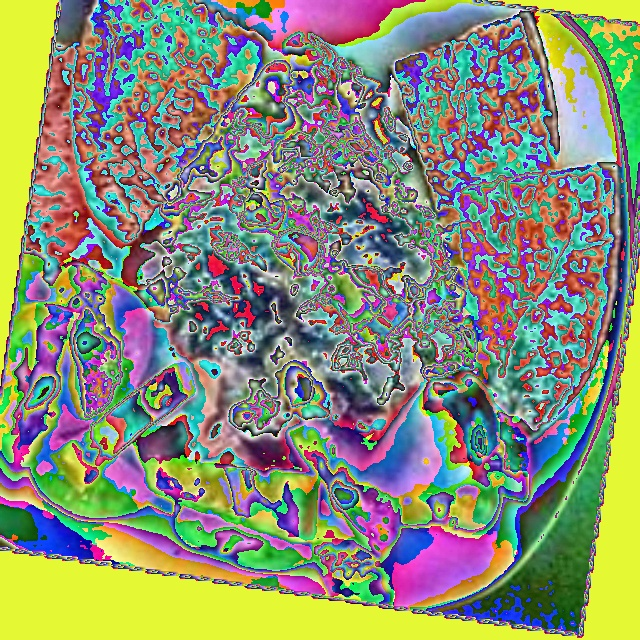background: (0, 0, 623, 608)
